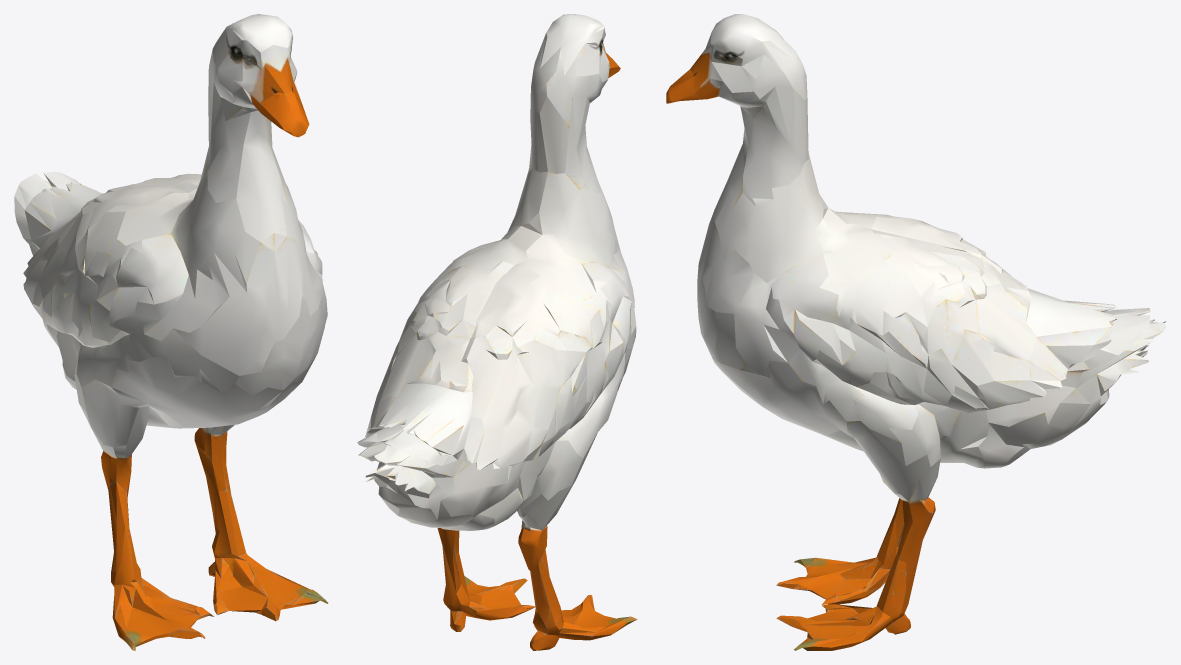
The model's file is duck.glb.
3 views of the same model, side by side, from view 1: azimuth 30°, elevation 25°; view 2: azimuth 150°, elevation 25°; view 3: azimuth 270°, elevation 25° (orthographic). The views are drawn at different scales.
Size of the model in its own units: 0.6468 by 1.9 by 1.46.
Materials: 1 (1 with a texture image).
